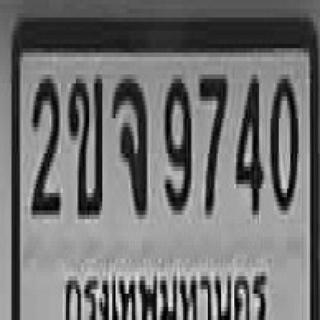A02: (68, 70, 100, 215)
A08: (110, 75, 145, 215)
N00: (269, 70, 297, 206)
N02: (30, 72, 59, 213)
N04: (234, 70, 261, 210)
N07: (198, 70, 226, 210)
N09: (163, 74, 190, 210)
P04: (62, 270, 271, 320)
